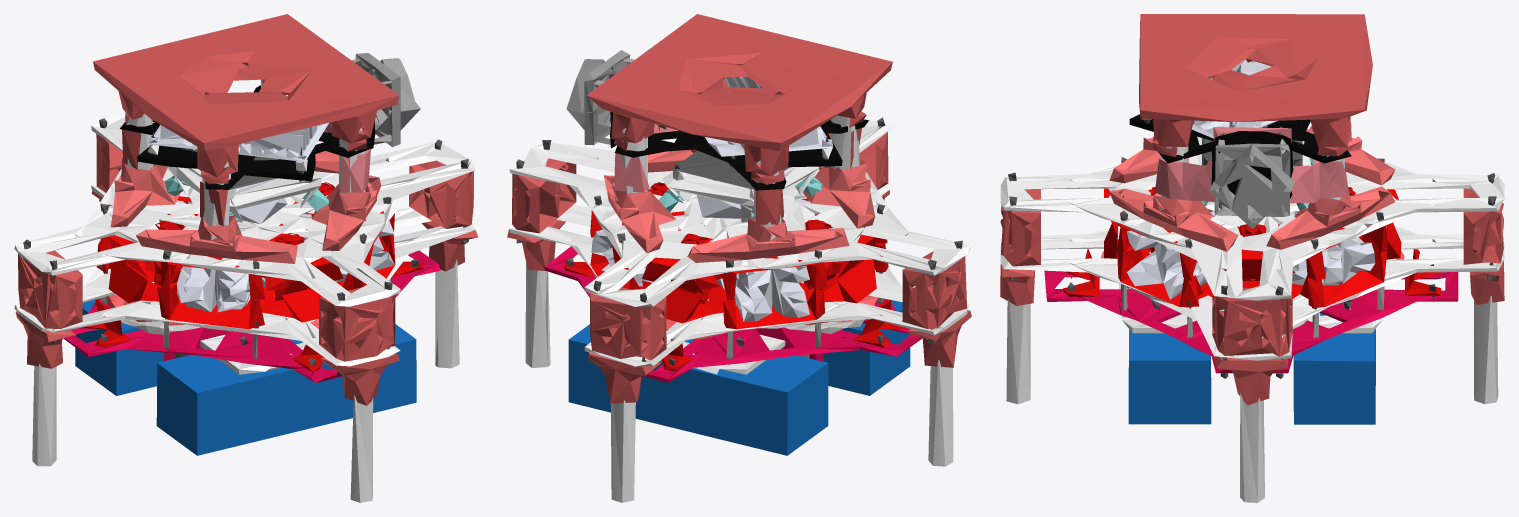
The model's file is amoeba_base.dae.
3 views of the same model, side by side, from view 1: azimuth 30°, elevation 25°; view 2: azimuth 150°, elevation 25°; view 3: azimuth 270°, elevation 25° (orthographic).
Parts seen in each view (by area): view 1: Shape_IndexedFaceSet.001; view 2: Shape_IndexedFaceSet.001; view 3: Shape_IndexedFaceSet.001.
Boxes of the visible parts, x1,y1,x2,y2 form: Shape_IndexedFaceSet.001: (14, 14, 478, 502); Shape_IndexedFaceSet.001: (507, 14, 971, 502); Shape_IndexedFaceSet.001: (1000, 14, 1504, 502).
Bounding box in the file's own units: 0.2511 × 0.2511 × 0.185.
